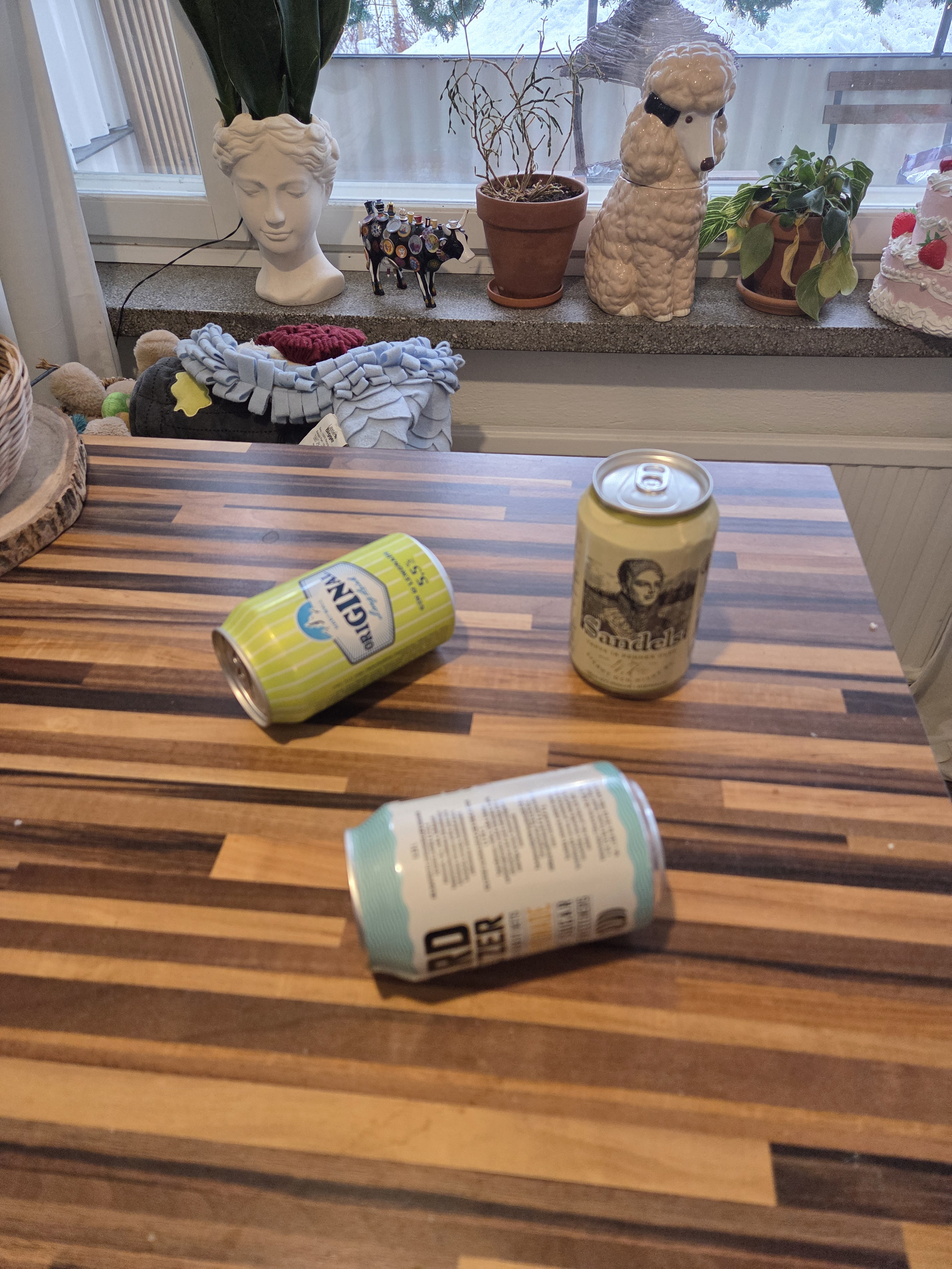Pantburk: (343, 757, 669, 984), (210, 532, 458, 732), (571, 448, 721, 700)
